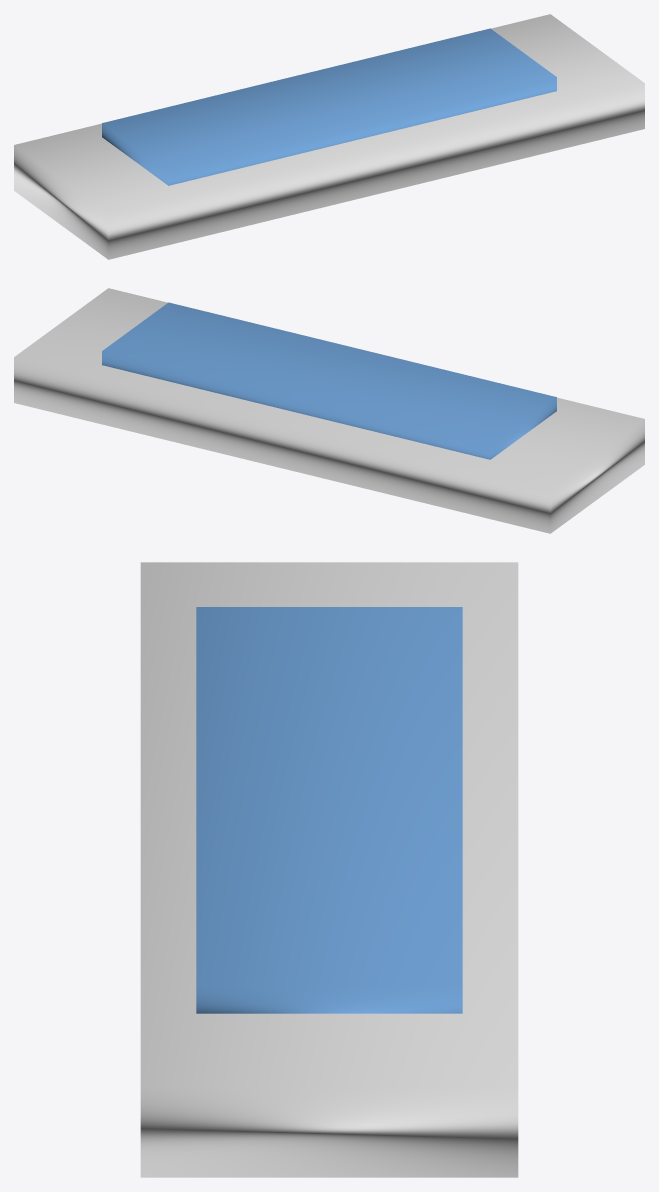
File: plataformatipo2.fbx
3 renders of one model, top to bottom at view 1: azimuth 30°, elevation 25°; view 2: azimuth 150°, elevation 25°; view 3: azimuth 270°, elevation 25°, orthographic. The views are drawn at different scales.
Parts seen in each view (by area): view 1: polySurface7; view 2: polySurface7; view 3: polySurface7.
Part boxes in pixels (x1,y1,x2,y2): polySurface7: (14, 14, 644, 259); polySurface7: (14, 288, 644, 533); polySurface7: (140, 562, 518, 1177).
Bounding box in the file's own units: 72.1 × 7.66 × 21.99.
